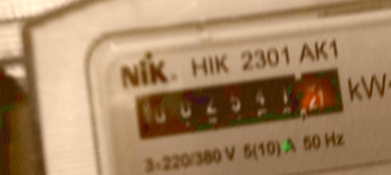0: (149, 98, 170, 126), (176, 92, 193, 120)
1: (275, 77, 291, 106)
2: (200, 89, 219, 115)
4: (251, 81, 267, 106)
5: (225, 84, 246, 114)
6: (304, 91, 321, 110)
screen: (120, 52, 360, 152)
